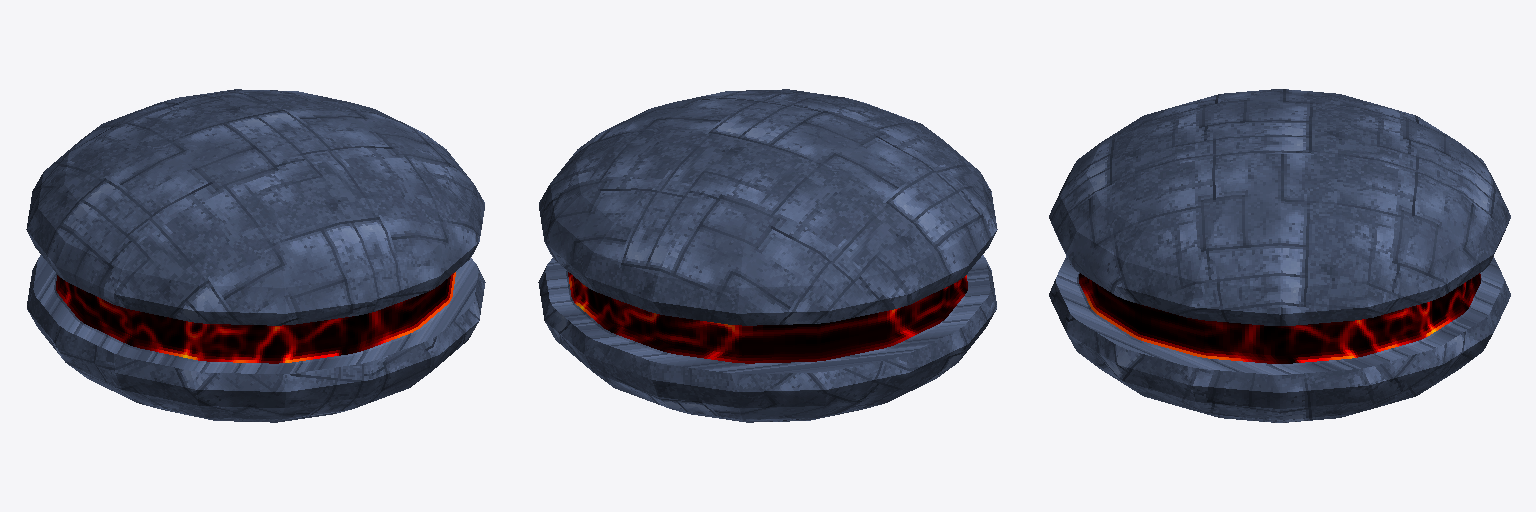
3 views of the same model, side by side, from view 1: azimuth 30°, elevation 25°; view 2: azimuth 150°, elevation 25°; view 3: azimuth 270°, elevation 25° (orthographic).
Parts seen in each view (by area): view 1: burger; view 2: burger; view 3: burger.
Boxes of the visible parts, box(x1,y1,x2,y2) form: burger: box(26, 89, 485, 422); burger: box(538, 89, 997, 422); burger: box(1049, 89, 1510, 422).
Size of the model in its own units: 1.97 by 1.2 by 1.97.
1 materials, 1 textured.